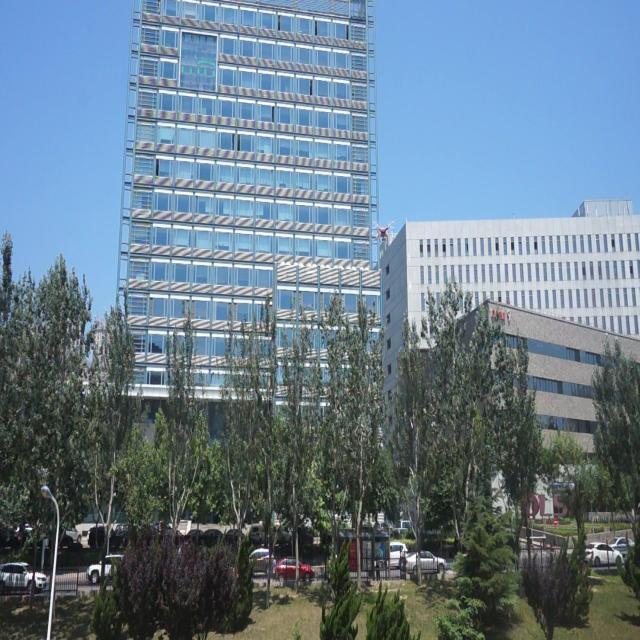drone: (374, 217, 393, 249)
